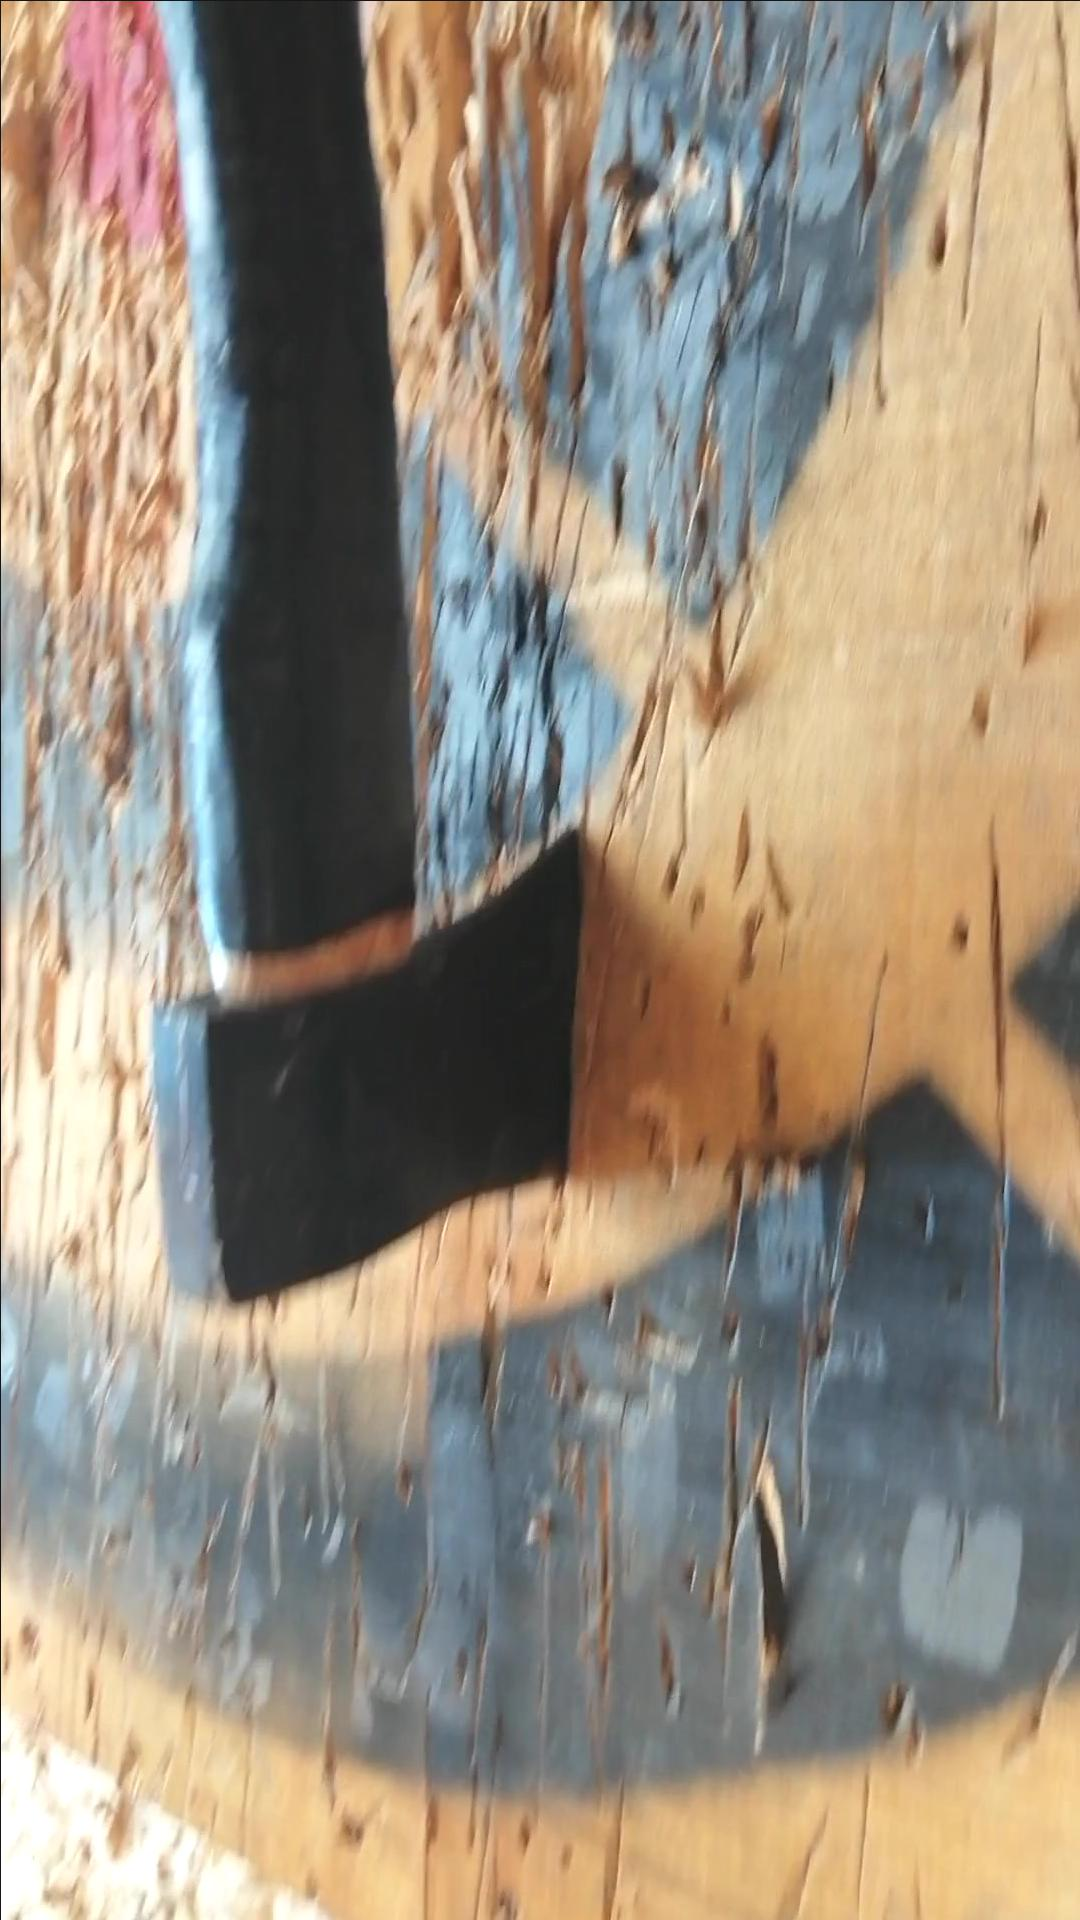Hand Axe: (138, 820, 580, 1309)
